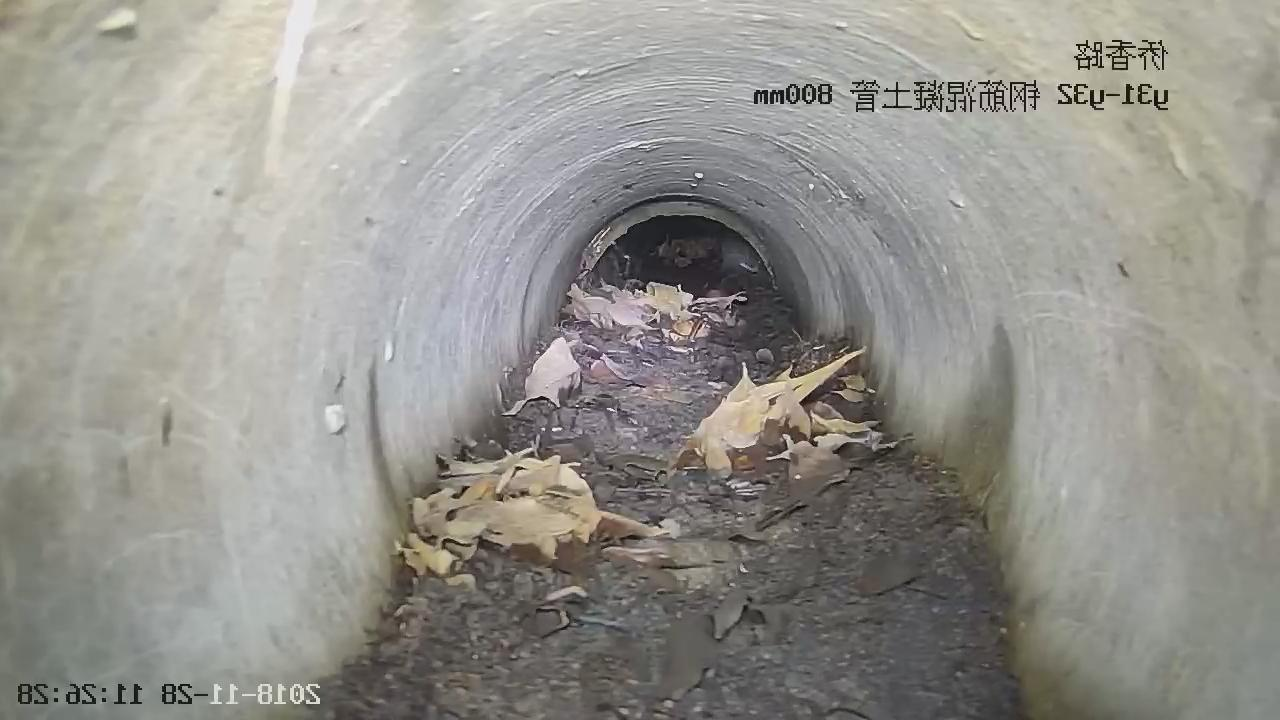CJ: (332, 284, 1014, 719)
CKTJ: (580, 198, 778, 282)
